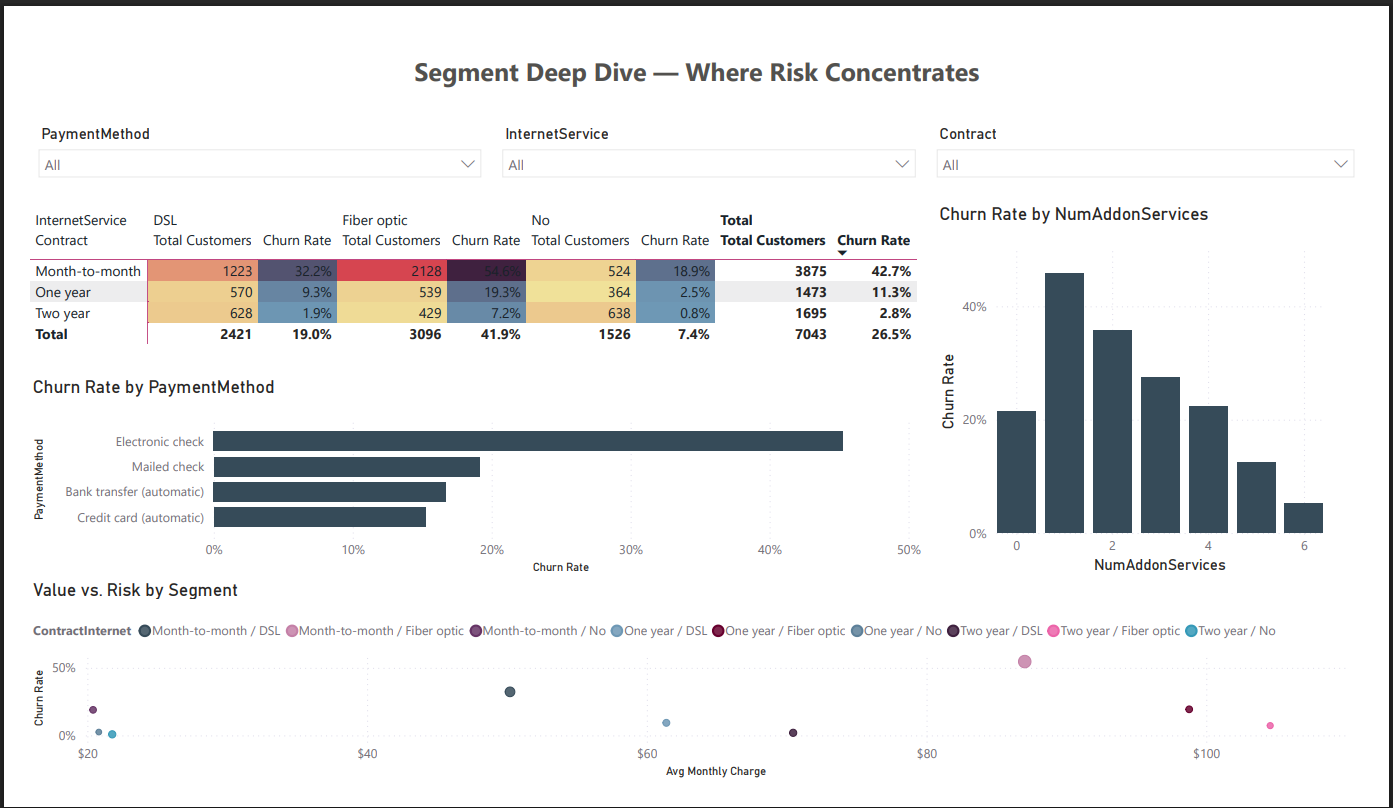

This screenshot's page, from the dashboard's own definition file:
{"tool":"powerbi","page":{"name":"Segment Deep Dive","canvas":[1280,720],"ordinal":1},"visuals":[{"type":"pivotTable","fields":{"Columns":["Customers.InternetService"],"Rows":["Customers.Contract"],"Values":["Customers.Total Customers","Customers.Churn Rate"]},"box":[0,166.2,867.5,165],"z":0},{"type":"clusteredBarChart","fields":{"Category":["Customers.PaymentMethod"],"Y":["Customers.Churn Rate"]},"box":[0,331.2,860,193.8],"z":1000},{"type":"clusteredColumnChart","fields":{"Category":["Customers.NumAddonServices"],"Y":["Customers.Churn Rate"]},"box":[867.5,166.2,377.5,358.8],"z":2000},{"type":"scatterChart","title":"Value vs. Risk by Segment","fields":{"Series":["Customers.ContractInternet"],"Size":["Customers.Total Customers"],"X":["Customers.Avg Monthly Charge"],"Y":["Customers.Churn Rate"]},"box":[0,525,1280,195],"z":3000},{"type":"textbox","box":[201.2,17.5,878.8,68.8],"z":4000},{"type":"slicer","fields":{"Values":["Customers.PaymentMethod"]},"box":[0,86.2,443.8,62.5],"z":5000},{"type":"slicer","fields":{"Values":["Customers.Contract"]},"box":[860,86.2,420,62.5],"z":6000},{"type":"slicer","fields":{"Values":["Customers.InternetService"]},"box":[443.8,86.2,416.2,62.5],"z":7000}]}

Visuals, with their boxes on the page's 1280x720 design canvas (x1, y1, x2, y2). These are canvas units, not pixel positions in the 1393x808 screenshot, which may show the page scaled, cropped or inside an application window:
pivotTable - Customers.InternetService x Customers.Contract: x1=0 y1=166 x2=868 y2=331
clusteredBarChart - Customers.PaymentMethod x Customers.Churn Rate: x1=0 y1=331 x2=860 y2=525
clusteredColumnChart - Customers.NumAddonServices x Customers.Churn Rate: x1=868 y1=166 x2=1245 y2=525
"Value vs. Risk by Segment" scatterChart: x1=0 y1=525 x2=1280 y2=720
textbox: x1=201 y1=18 x2=1080 y2=86
slicer - Customers.PaymentMethod: x1=0 y1=86 x2=444 y2=149
slicer - Customers.Contract: x1=860 y1=86 x2=1280 y2=149
slicer - Customers.InternetService: x1=444 y1=86 x2=860 y2=149
